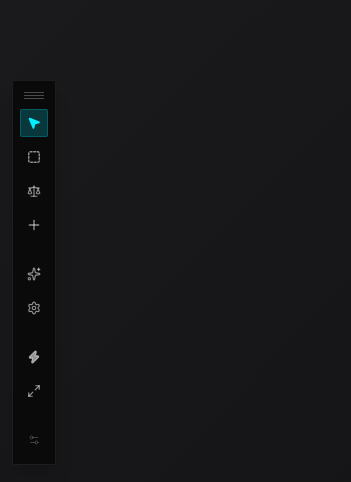
CustomizePopover — render states › should render the popover when customize button is clicked
Click the button titled "Customize Toolbar" at (34, 440), box [20,426,48,454]
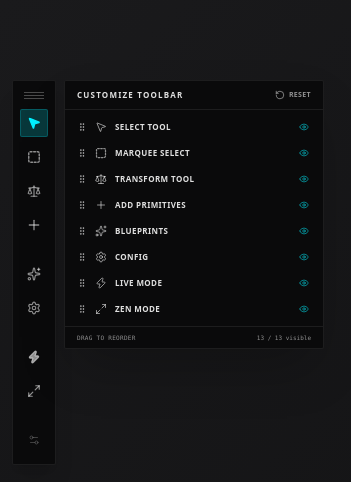
Result: the text "Customize Toolbar" is shown at [77,89,184,101]
